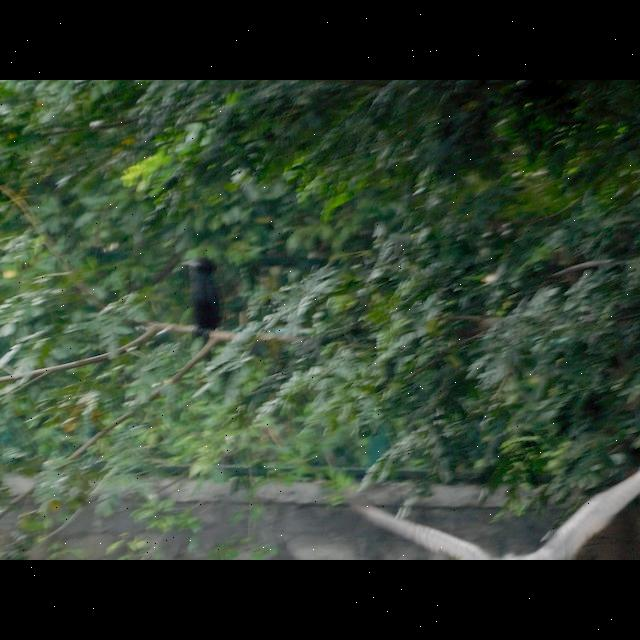cormorant: (180, 248, 222, 350)
